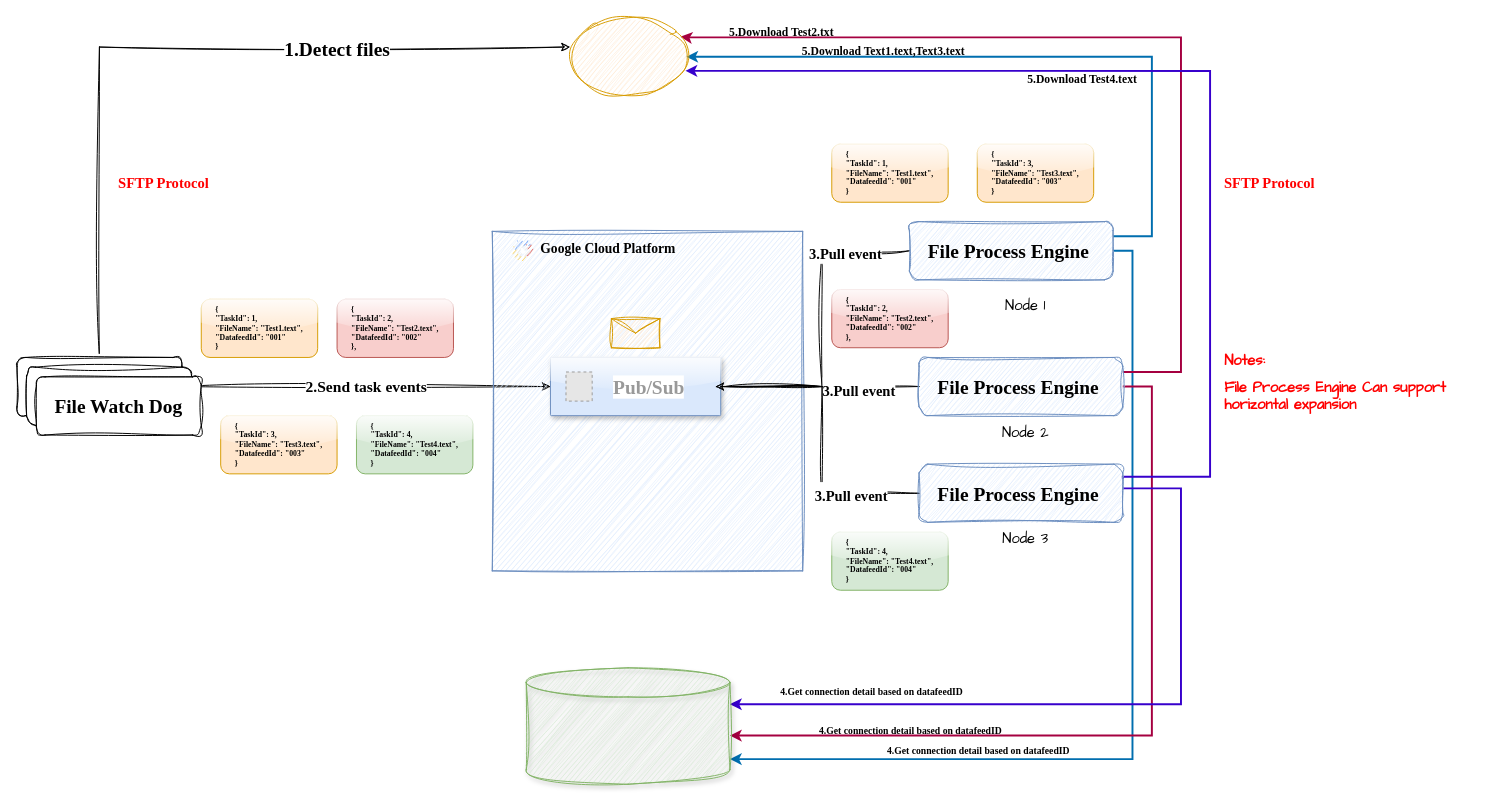
Some shapes in this 1499 by 808 pixel diagram are drawn without their labels. Grey dashed boxes stand in for pictures. The centre of each missing label's shape, as x and y in pixels:
Config Center: point 628,727
Upstream: point 627,56
